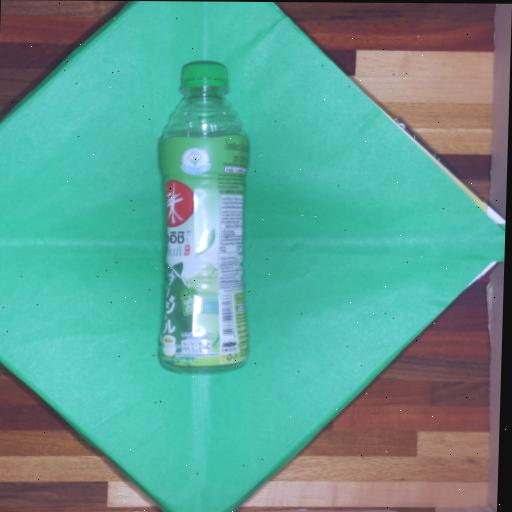bottle: (144, 47, 268, 388)
